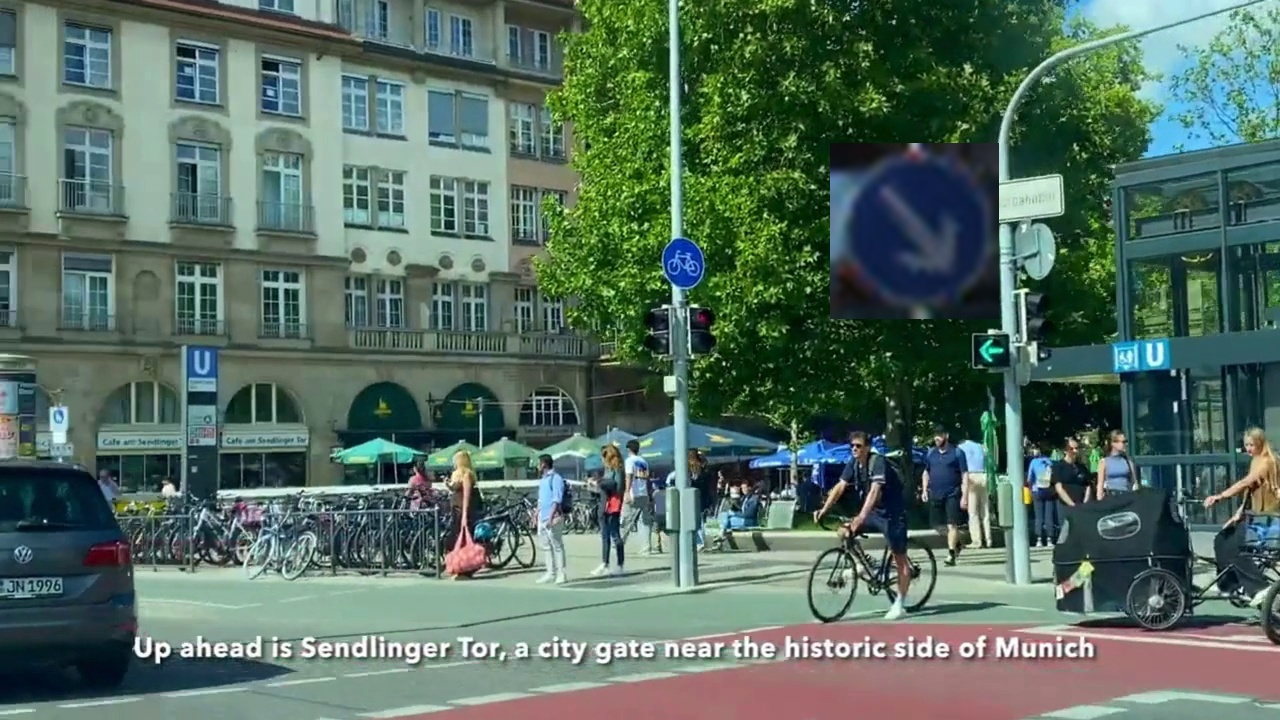Keep right: (830, 143, 999, 319)
